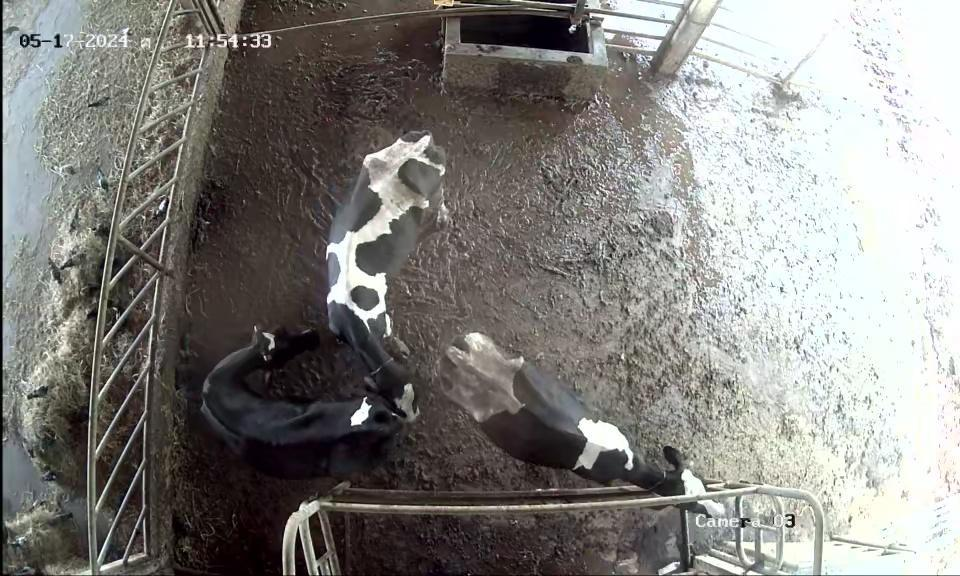lay: (190, 315, 400, 477)
stand: (436, 317, 732, 522), (303, 111, 441, 428)
